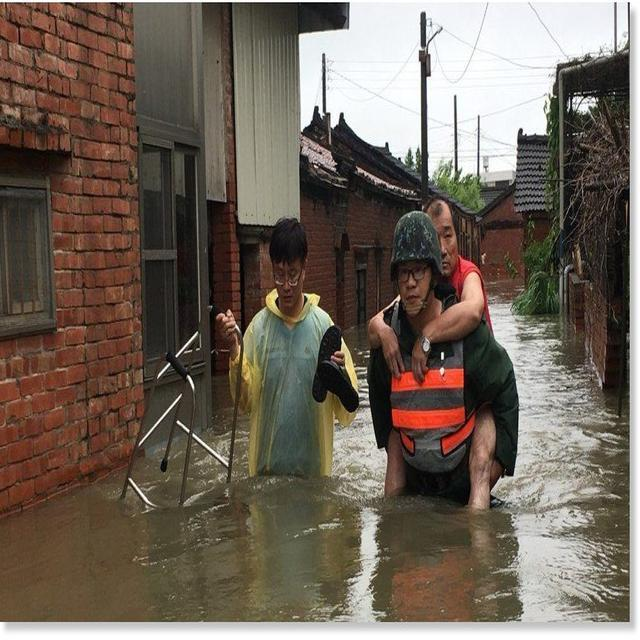Person-RiskLevel3: (369, 194, 526, 523), (211, 212, 363, 516)
